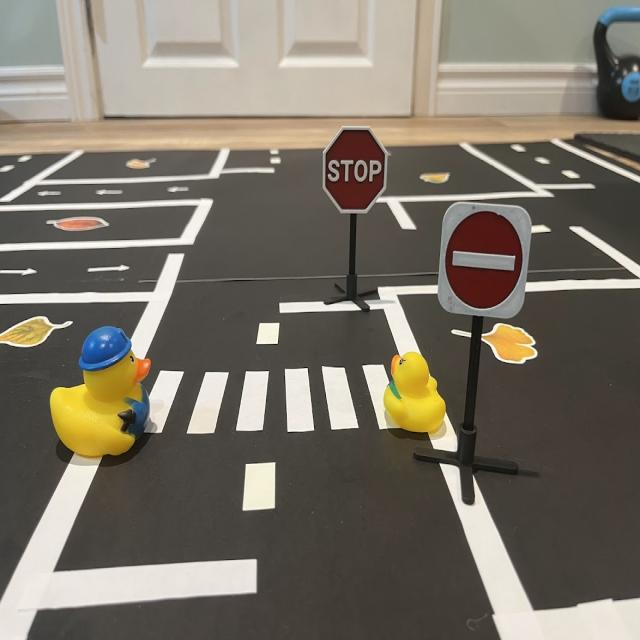duck_regular: (384, 353, 446, 436)
duck_specialty: (51, 328, 150, 462)
road_crosswalk: (147, 362, 413, 441)
road_oneway: (86, 261, 133, 279), (1, 267, 42, 279), (94, 188, 125, 201), (165, 184, 195, 195), (35, 190, 65, 198)
sign_noentry: (438, 209, 533, 322)
sign_stop: (325, 130, 389, 219)
